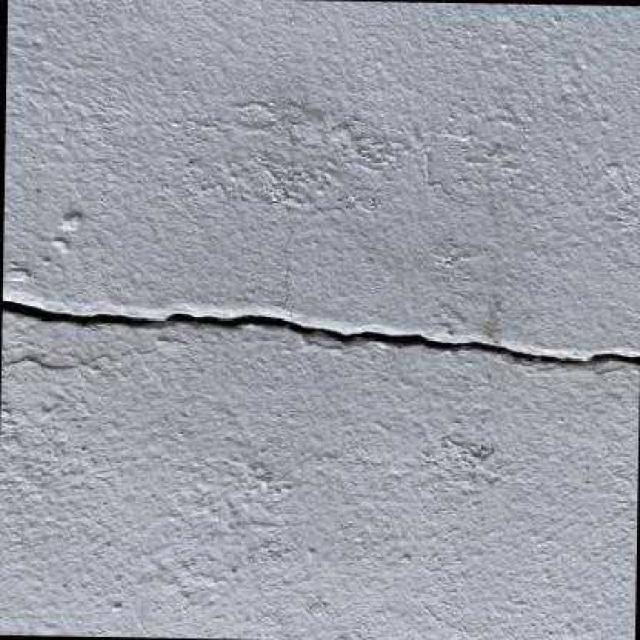D00: (0, 298, 639, 367)
